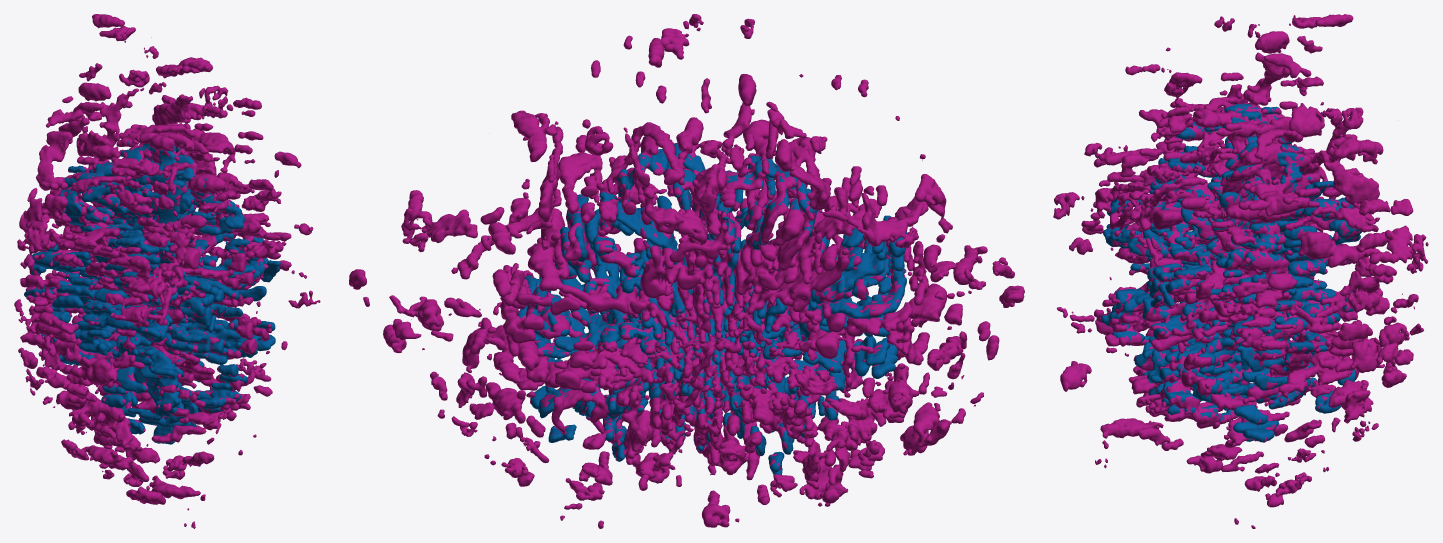
The model's file is DMSO_96HR.glb.
3 renders of one model, left to right at view 1: azimuth 30°, elevation 25°; view 2: azimuth 150°, elevation 25°; view 3: azimuth 270°, elevation 25°, orthographic. The views are drawn at different scales.
Parts seen in each view (by area): view 1: dmso_96_tmre, dmos_96_mito; view 2: dmso_96_tmre, dmos_96_mito; view 3: dmso_96_tmre, dmos_96_mito.
Boxes of the visible parts, x1,y1,x2,y2 form: dmso_96_tmre: [14, 14, 320, 528]; dmos_96_mito: [24, 141, 280, 444]; dmso_96_tmre: [349, 14, 1024, 528]; dmos_96_mito: [518, 142, 907, 474]; dmso_96_tmre: [1053, 14, 1428, 528]; dmos_96_mito: [1101, 103, 1361, 442].
Size of the model in its own units: 37.23 by 39.84 by 29.18.
